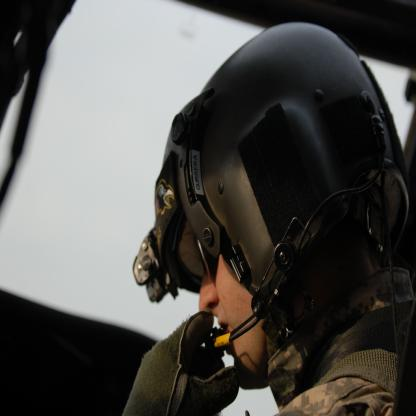Helmet: (144, 21, 394, 363)
